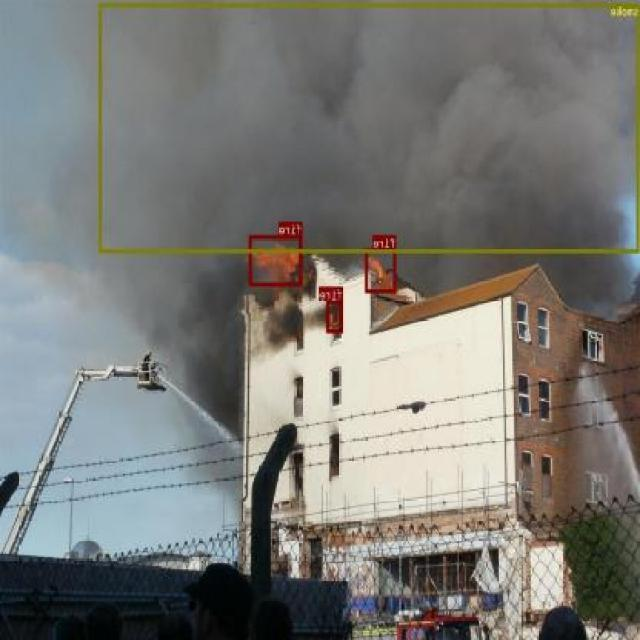Fire: (250, 234, 302, 286), (366, 248, 397, 292), (328, 300, 343, 332)
Smoke: (99, 2, 639, 252)
